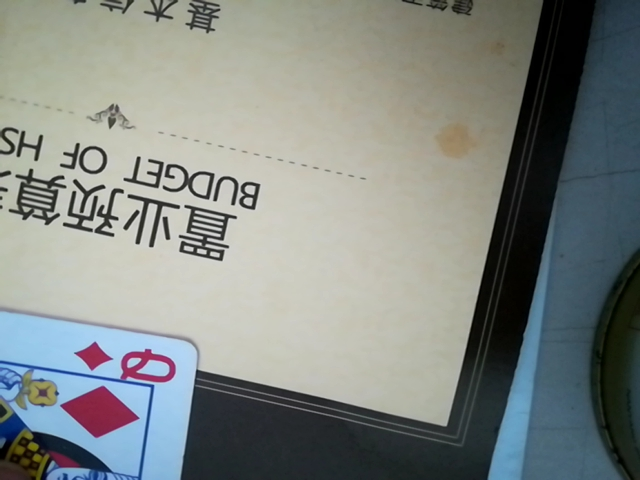fk q: (0, 266, 207, 480)
